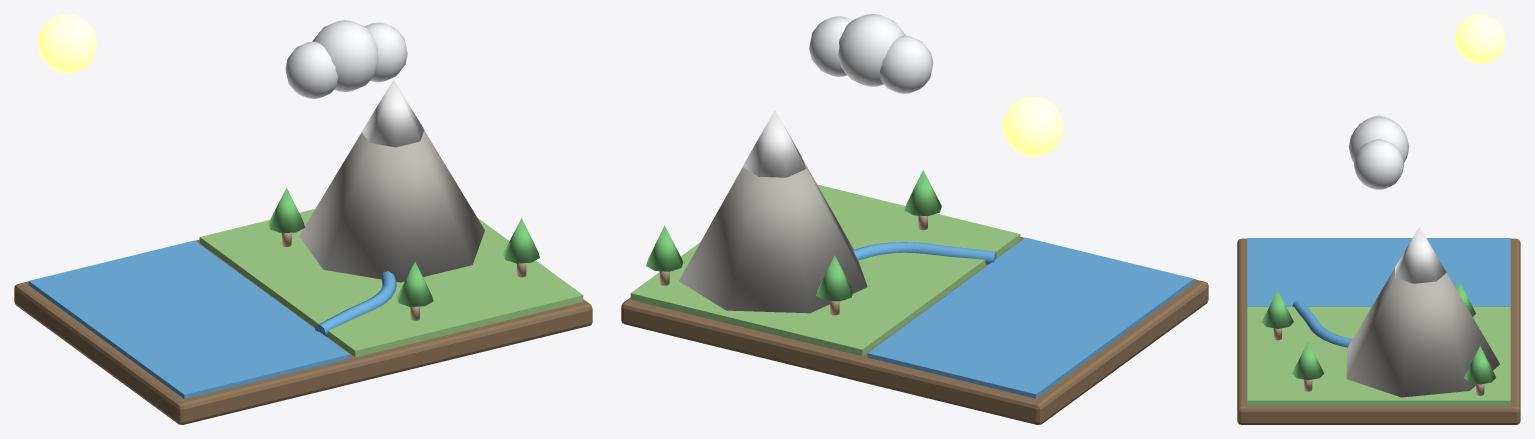
Rendered from water_cycle_diorama.glb.
3 renders of one model, left to right at view 1: azimuth 30°, elevation 25°; view 2: azimuth 150°, elevation 25°; view 3: azimuth 270°, elevation 25°, orthographic. The views are drawn at different scales.
Visible parts, largest first — view 1: dio_sea, dio_land, dio_mountain, dio_base, dio_cloud0, dio_sun, dio_snow, dio_cloud1, dio_cloud2, dio_river, dio_crown1, dio_crown2 (+1 smaller); view 2: dio_sea, dio_land, dio_mountain, dio_base, dio_cloud0, dio_sun, dio_snow, dio_cloud1, dio_cloud2, dio_river, dio_crown3, dio_crown0 (+1 smaller); view 3: dio_sea, dio_land, dio_mountain, dio_base, dio_sun, dio_cloud2, dio_snow, dio_cloud0, dio_river, dio_crown3, dio_crown1, dio_crown2.
Boxes of the visible parts, box(x1,y1,x2,y2) form: dio_sea: box(28, 240, 350, 398); dio_land: box(199, 209, 583, 357); dio_mountain: box(299, 130, 484, 282); dio_base: box(14, 239, 592, 424); dio_cloud0: box(312, 20, 378, 91); dio_sun: box(37, 14, 97, 73); dio_snow: box(361, 80, 424, 147); dio_cloud1: box(285, 41, 337, 98); dio_cloud2: box(365, 22, 407, 82); dio_river: box(315, 271, 396, 336); dio_crown1: box(503, 218, 539, 263); dio_crown2: box(396, 261, 433, 306); dio_sea: box(867, 237, 1193, 398); dio_land: box(630, 184, 1020, 356); dio_mountain: box(679, 160, 867, 313); dio_base: box(621, 237, 1208, 424); dio_cloud0: box(838, 14, 905, 86); dio_sun: box(1003, 96, 1063, 156); dio_snow: box(742, 110, 805, 177); dio_cloud1: box(880, 35, 933, 93); dio_cloud2: box(809, 16, 852, 76); dio_river: box(853, 242, 996, 264); dio_crown3: box(646, 225, 683, 271); dio_crown0: box(816, 255, 853, 301); dio_sea: box(1247, 238, 1510, 306); dio_land: box(1247, 306, 1510, 405); dio_mountain: box(1346, 268, 1499, 397); dio_base: box(1237, 238, 1520, 424); dio_sun: box(1455, 14, 1505, 64); dio_cloud2: box(1353, 139, 1404, 189); dio_snow: box(1395, 227, 1446, 283); dio_cloud0: box(1348, 117, 1409, 162); dio_river: box(1292, 300, 1352, 347); dio_crown3: box(1464, 346, 1496, 384); dio_crown1: box(1292, 341, 1324, 380); dio_crown2: box(1262, 290, 1293, 328).
Bounding box in the file's own units: 0.4 × 0.275 × 0.28.
